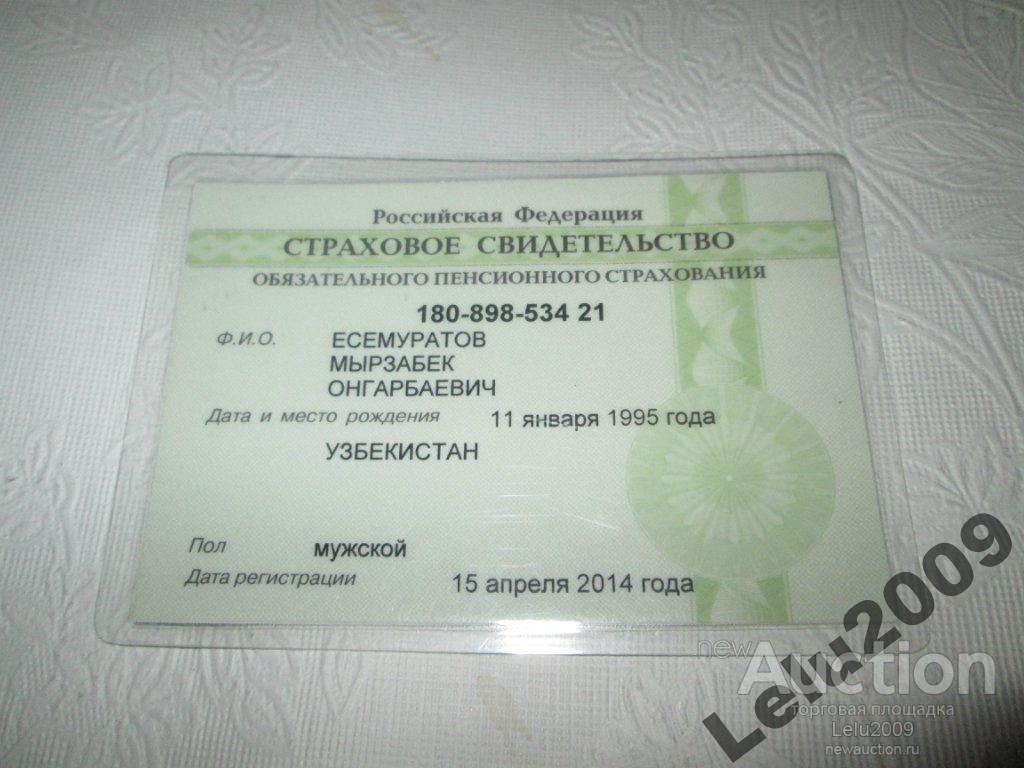text: (451, 567, 699, 599), (487, 404, 721, 431), (410, 297, 611, 326), (319, 437, 485, 466), (325, 376, 503, 401), (327, 326, 490, 351), (324, 350, 457, 376), (310, 536, 412, 564)
